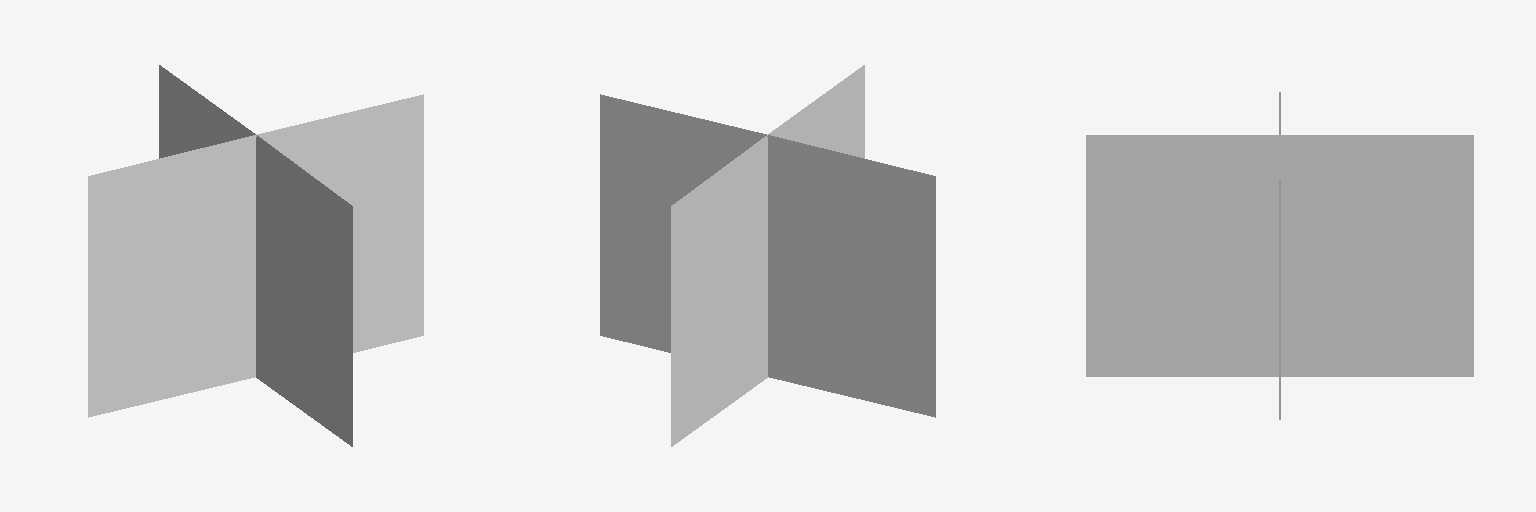
The model's file is Hedgehog_Agave_Fan_0.obj.
3 renders of one model, left to right at view 1: azimuth 30°, elevation 25°; view 2: azimuth 150°, elevation 25°; view 3: azimuth 270°, elevation 25°, orthographic.
Visible parts, largest first — view 1: CreateFan; view 2: CreateFan; view 3: CreateFan.
Part boxes in pixels (x1,y1,x2,y2): CreateFan: (88,65,423,446); CreateFan: (600,65,935,446); CreateFan: (1086,92,1473,419).
Size of the model in its own units: 2.19 by 1.5 by 2.19.